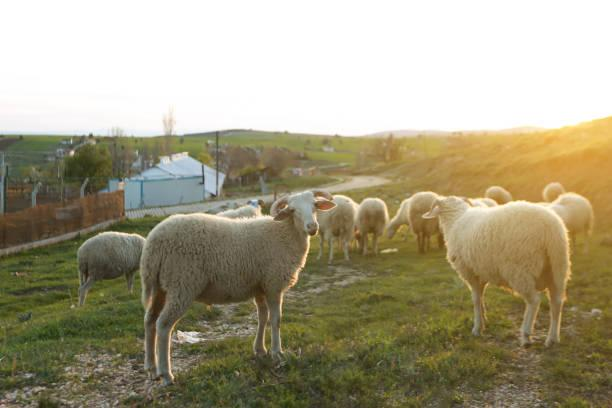Sheep: (267, 181, 342, 263), (421, 189, 474, 246), (381, 204, 409, 241)
